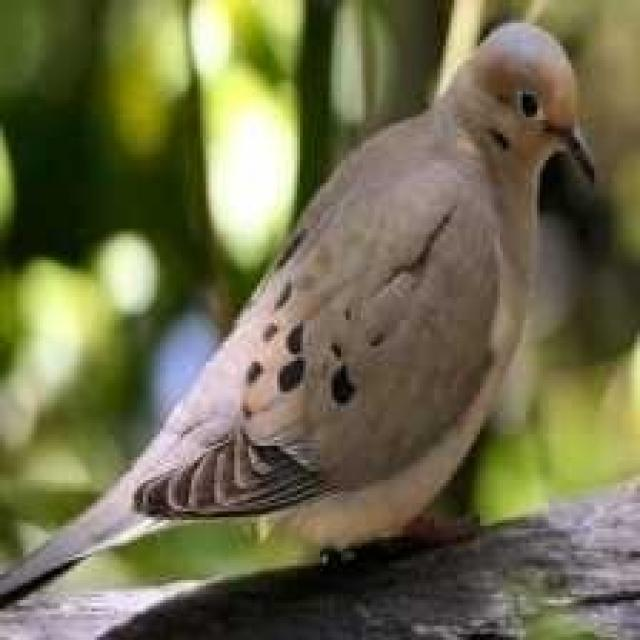bird: (4, 9, 605, 638)
